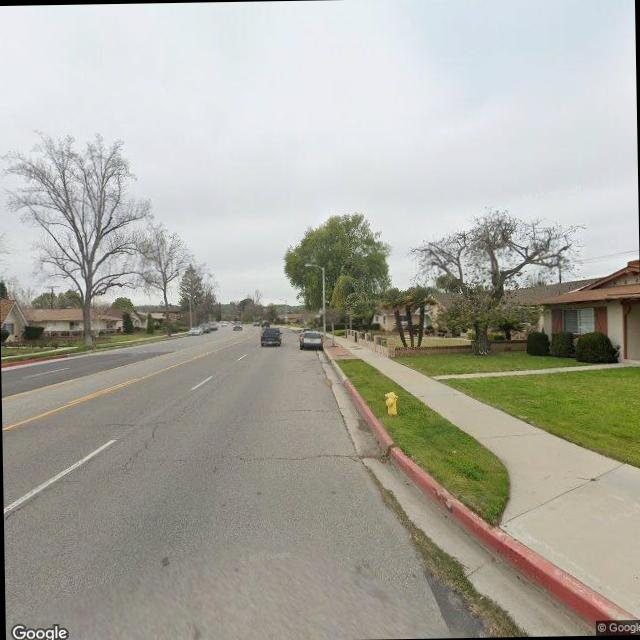crack: (138, 449, 382, 473), (2, 418, 158, 432), (2, 482, 54, 520), (270, 401, 344, 414)
